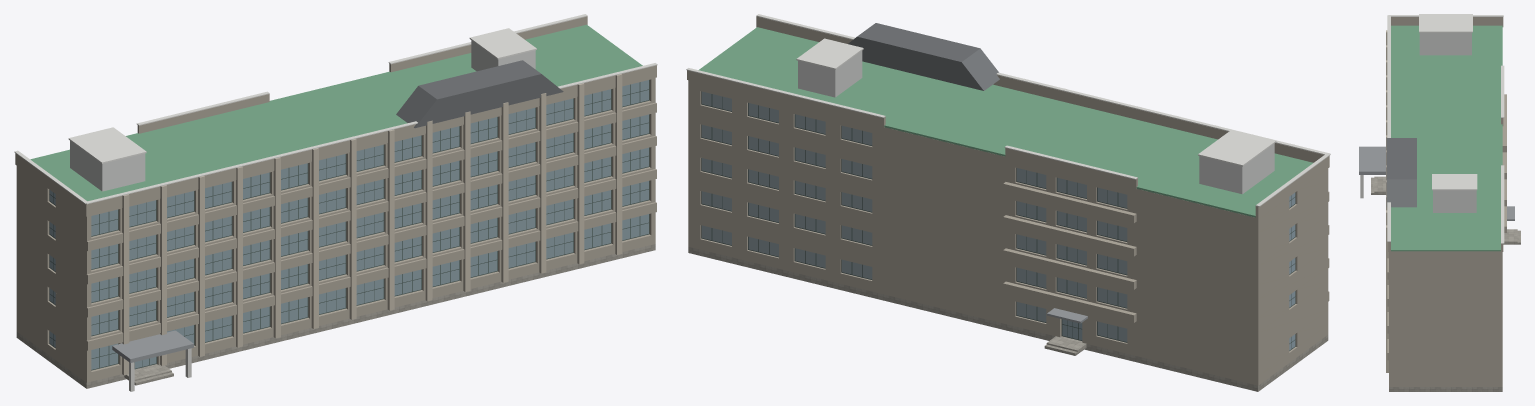
The picture shows the model from 3 angles, left to right: view 1: azimuth 30°, elevation 25°; view 2: azimuth 150°, elevation 25°; view 3: azimuth 270°, elevation 25°; orthographic projection. The views are drawn at different scales.
Visible parts, largest first — view 1: main__spandrel, main__glass, main__greenroof, main__pier, main__frame, main__crown, main__cap, main__stone, main__roofbox, main__canopy; view 2: main__spandrel, main__greenroof, main__sideglass, main__cap, main__crown, main__stone, main__roofbox, main__frame; view 3: main__greenroof, main__spandrel, main__cap, main__roofbox, main__crown, main__canopy, main__pier, main__stone, main__threshold-front, main__threshold-court.
Boxes of the visible parts, <box> form: main__spandrel: <box>15,16,656,382</box>; main__glass: <box>91,80,648,369</box>; main__greenroof: <box>30,24,642,201</box>; main__pier: <box>122,74,622,375</box>; main__frame: <box>49,80,649,370</box>; main__crown: <box>396,60,563,128</box>; main__cap: <box>14,14,657,204</box>; main__stone: <box>16,244,655,388</box>; main__roofbox: <box>70,40,535,191</box>; main__canopy: <box>112,330,193,362</box>; main__spandrel: <box>687,16,1329,385</box>; main__greenroof: <box>698,27,1313,217</box>; main__sideglass: <box>702,91,1127,341</box>; main__cap: <box>686,14,1330,206</box>; main__crown: <box>848,23,999,90</box>; main__stone: <box>688,247,1328,391</box>; main__roofbox: <box>798,51,1274,194</box>; main__frame: <box>701,91,1295,350</box>; main__greenroof: <box>1391,25,1502,251</box>; main__spandrel: <box>1387,17,1506,386</box>; main__cap: <box>1387,14,1504,243</box>; main__roofbox: <box>1419,32,1476,212</box>; main__crown: <box>1386,138,1416,207</box>; main__canopy: <box>1359,146,1514,220</box>; main__pier: <box>1386,30,1388,372</box>; main__stone: <box>1389,387,1502,391</box>; main__threshold-front: <box>1377,176,1385,194</box>; main__threshold-court: <box>1503,229,1514,244</box>.
Bounding box in the file's own units: 61.3 × 21.06 × 18.54.
Materials: 14 (3 with a texture image).
